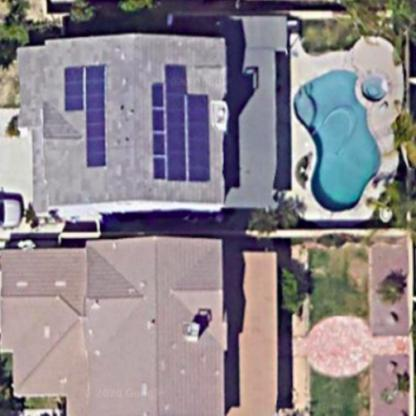solar_panel: (148, 53, 217, 189), (62, 60, 114, 169)
swimming_pool: (291, 44, 392, 223)
